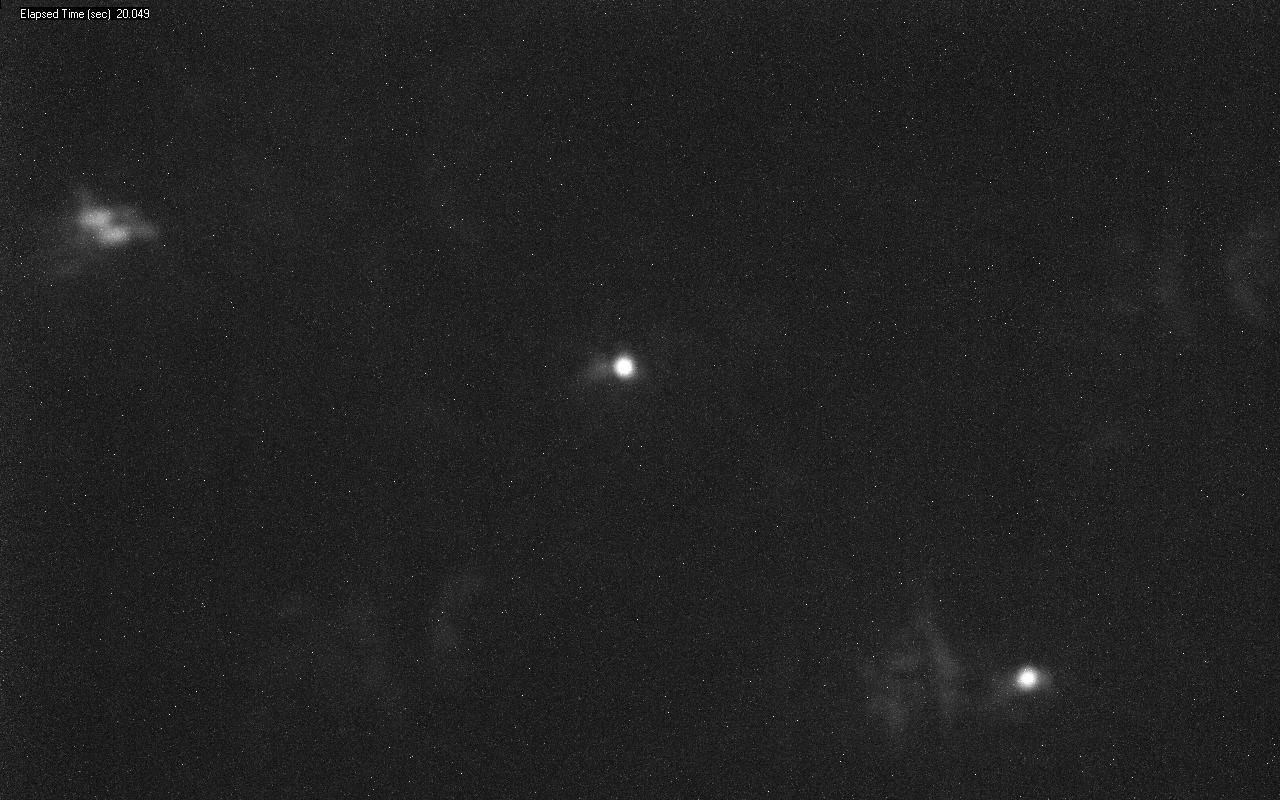Bead: (613, 354, 635, 379), (1017, 667, 1039, 690)
